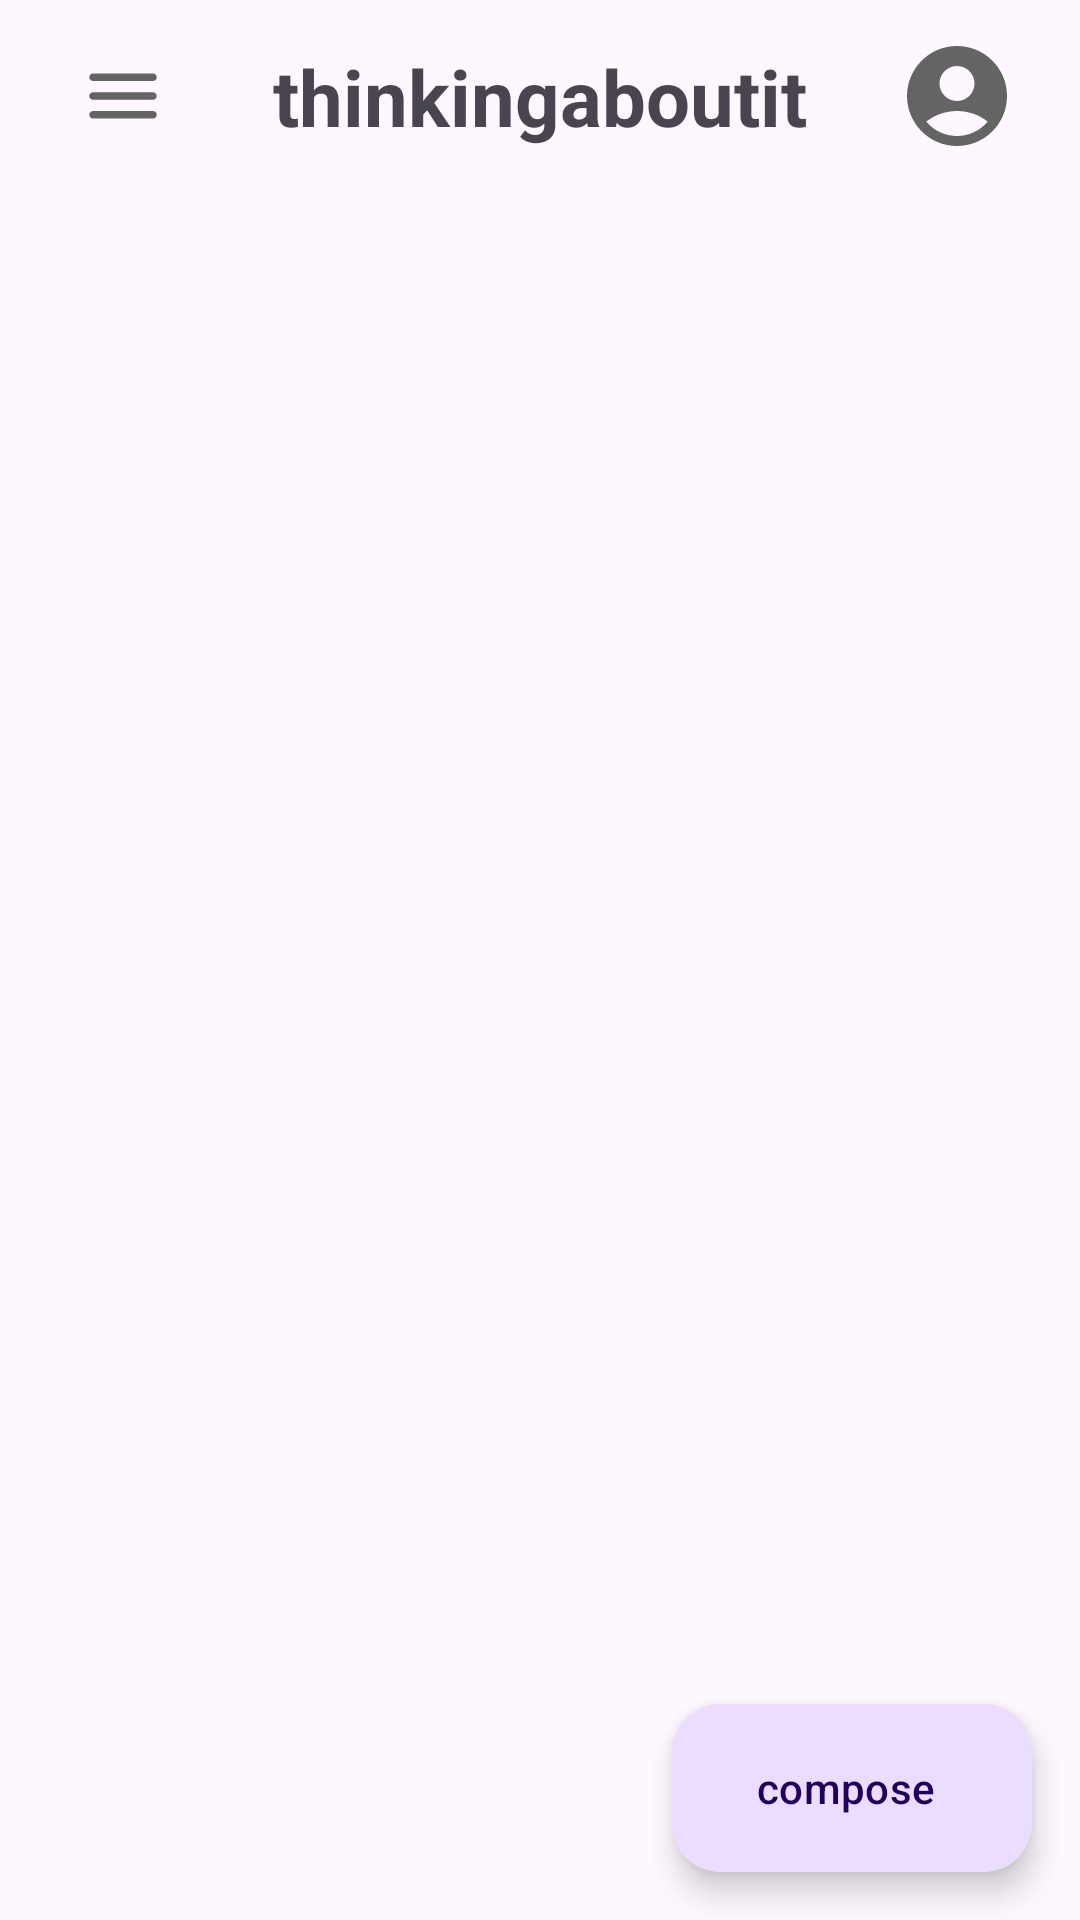

Icons on this 1080px×1920px Android screen, each with the point to tap as (x,y):
account: (957,96)
navigate: (123,96)
